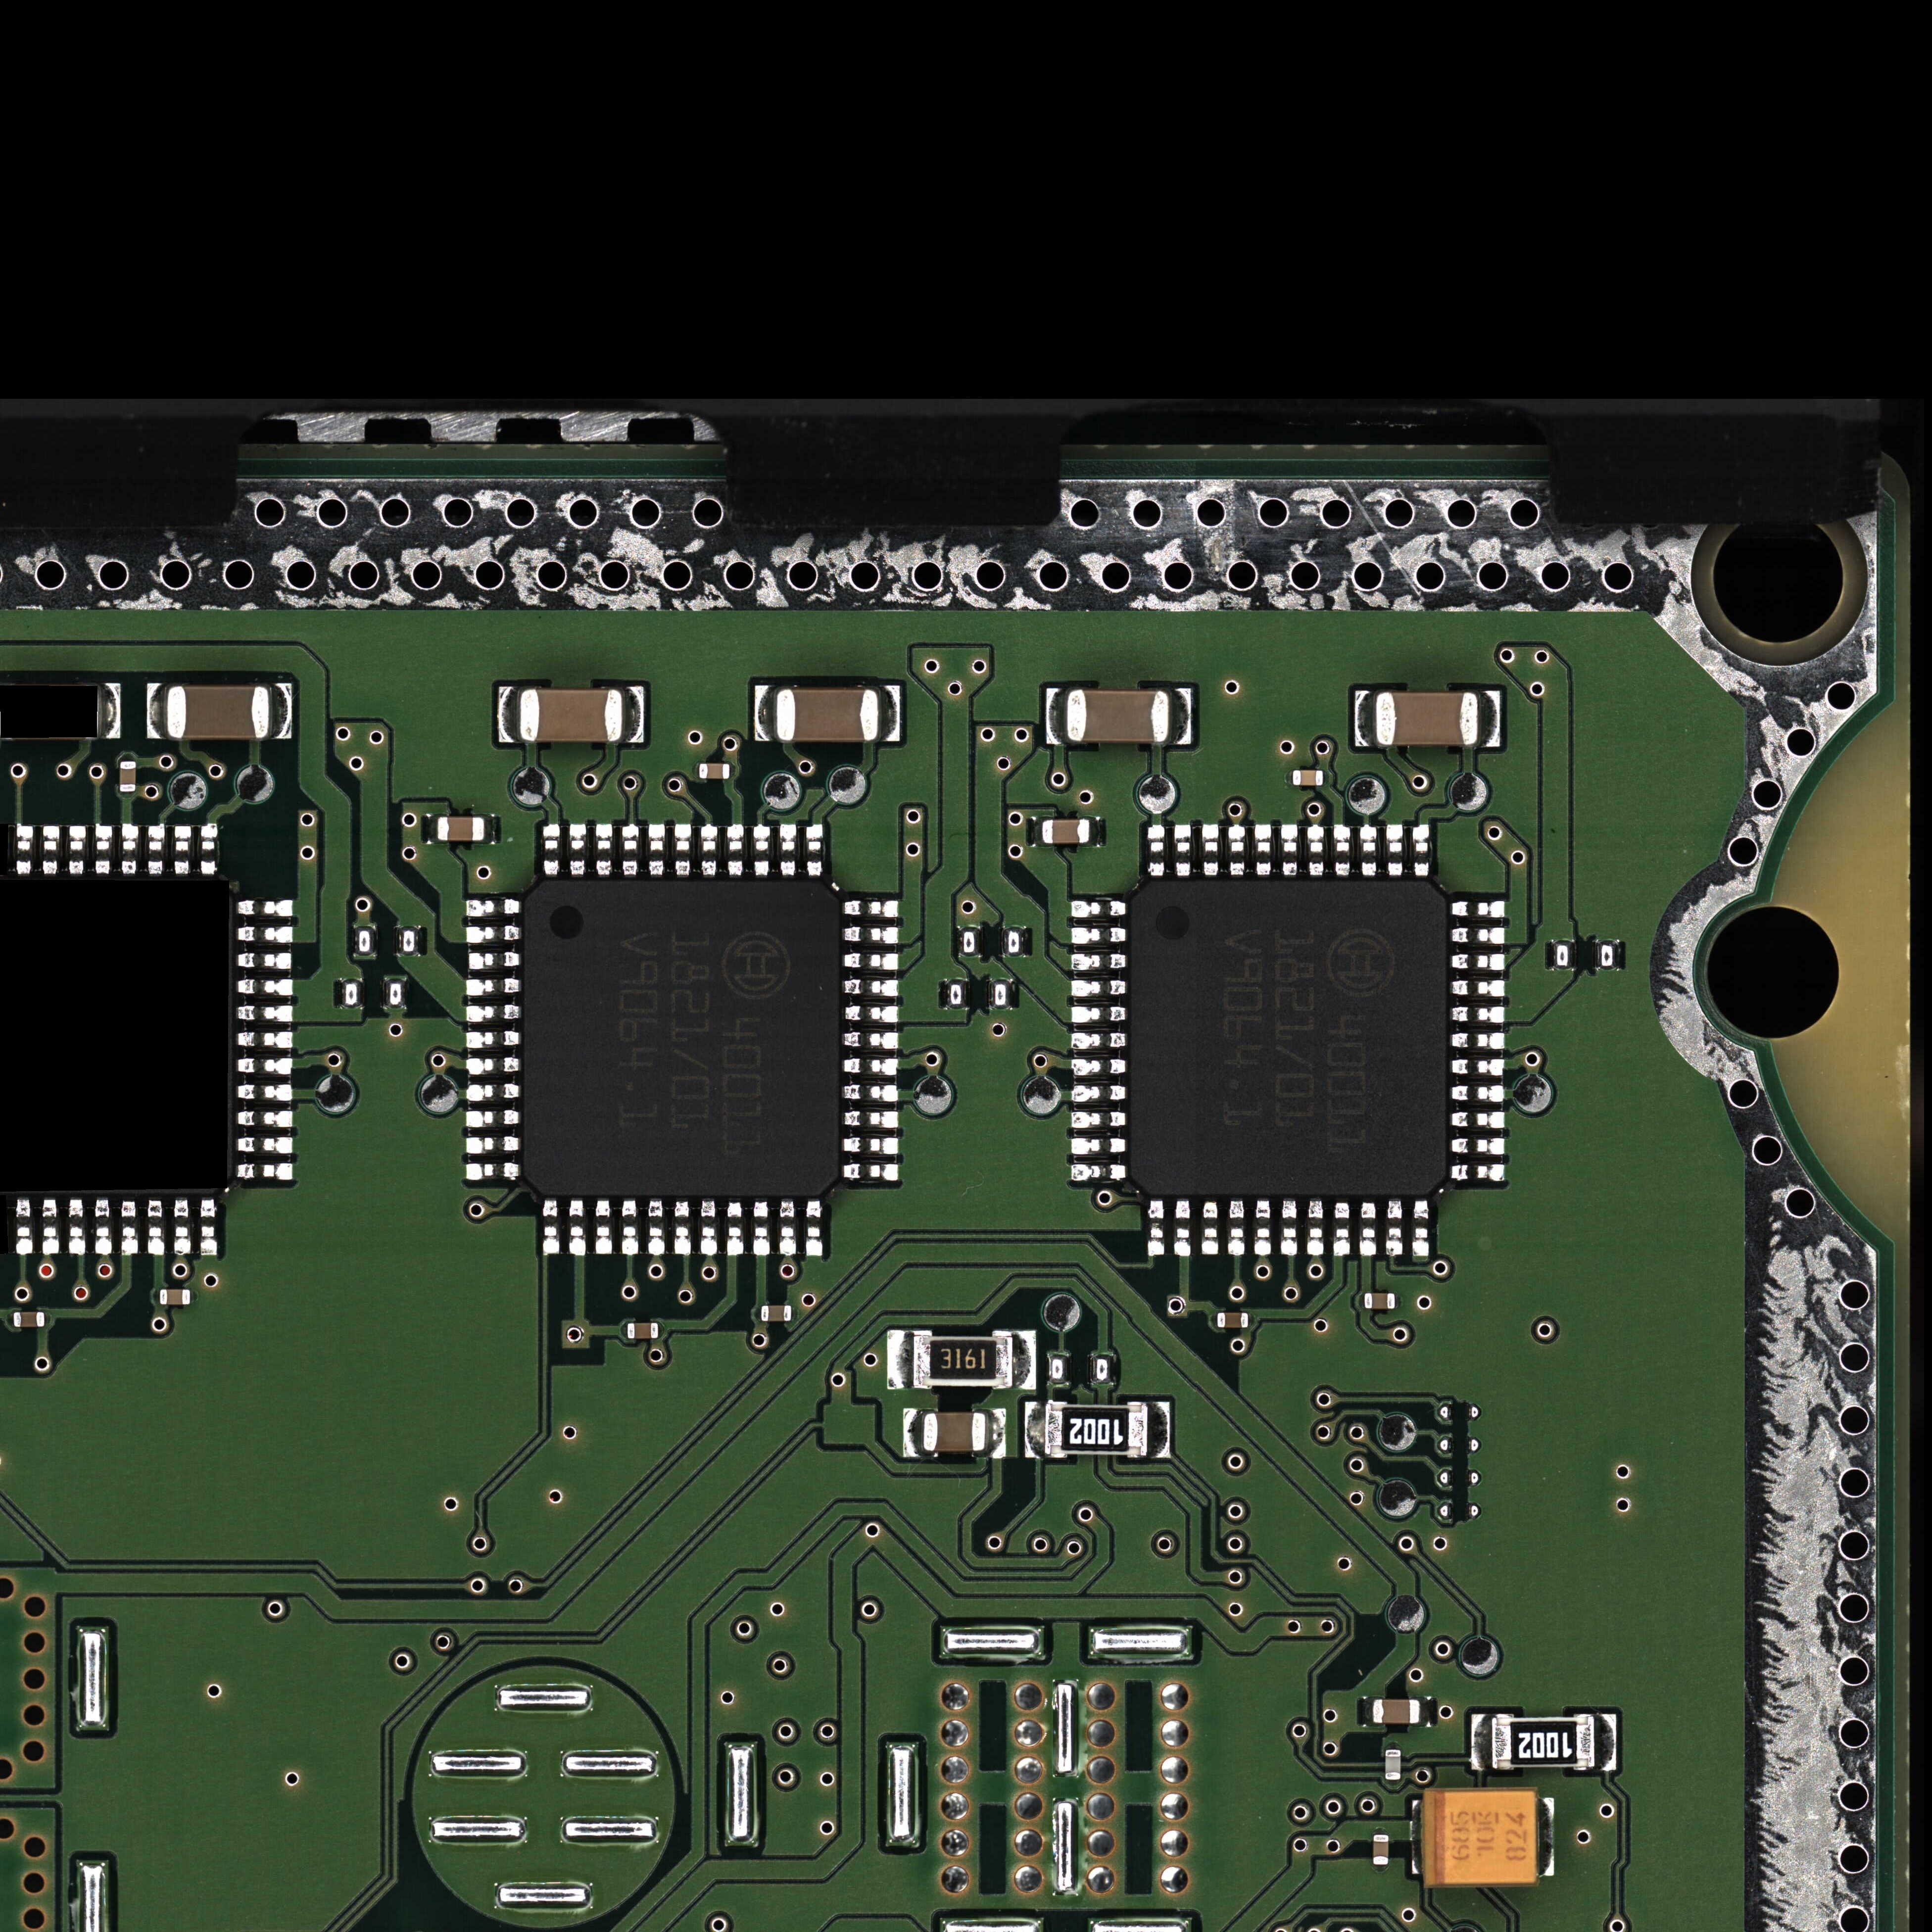Package: (1128, 880, 1449, 1198), (523, 881, 840, 1198), (1423, 1791, 1536, 1884), (520, 689, 623, 742), (1376, 692, 1478, 745), (167, 685, 269, 739), (1067, 690, 1169, 742), (1492, 1716, 1594, 1769), (1046, 1403, 1147, 1456), (777, 689, 879, 741), (914, 1335, 1012, 1387), (922, 1413, 986, 1451), (1042, 820, 1090, 844), (1373, 1699, 1420, 1724), (437, 817, 484, 841), (628, 1323, 659, 1339), (761, 1305, 791, 1321), (699, 763, 730, 779), (120, 761, 136, 792), (14, 1311, 45, 1327), (1293, 770, 1323, 786), (1364, 1293, 1395, 1309), (160, 1289, 190, 1304), (1373, 1835, 1389, 1865), (1217, 1312, 1248, 1328), (1385, 1749, 1401, 1780)
Solder: (888, 1330, 913, 1390), (1537, 1797, 1554, 1877), (1014, 1330, 1036, 1390), (198, 1197, 220, 1257), (171, 1197, 193, 1256), (119, 1197, 141, 1257), (145, 1198, 167, 1257), (39, 1197, 60, 1257), (12, 1197, 33, 1256), (64, 1196, 86, 1256), (91, 1196, 112, 1256), (1479, 690, 1500, 747), (1595, 1713, 1616, 1771), (879, 685, 900, 742), (624, 685, 644, 743), (1171, 687, 1191, 745), (236, 1004, 295, 1023), (236, 1030, 294, 1050), (271, 683, 291, 739), (237, 898, 295, 918), (236, 978, 294, 998), (236, 951, 294, 971), (236, 1057, 294, 1076), (235, 1083, 293, 1103), (237, 1135, 295, 1155), (237, 1108, 295, 1128), (1471, 1713, 1492, 1770), (1149, 1402, 1170, 1456), (755, 685, 775, 741), (498, 686, 519, 743), (236, 925, 295, 944), (1046, 687, 1066, 745), (236, 1161, 294, 1181), (464, 1162, 521, 1181), (199, 821, 219, 875), (173, 821, 193, 875), (67, 821, 88, 875), (94, 821, 114, 875), (147, 683, 166, 739), (842, 1162, 898, 1181), (1355, 690, 1374, 747), (843, 1057, 898, 1076), (466, 1057, 521, 1076), (120, 821, 141, 874), (15, 821, 35, 874), (465, 1136, 521, 1155), (843, 1136, 898, 1155), (146, 821, 166, 875), (41, 821, 61, 875), (466, 1083, 520, 1103), (843, 952, 899, 970), (1071, 1163, 1127, 1182), (465, 1110, 521, 1128), (844, 1083, 898, 1103), (1072, 1084, 1126, 1103), (843, 1110, 898, 1128), (1450, 1163, 1505, 1182), (466, 952, 521, 970), (1071, 900, 1126, 918), (1072, 926, 1126, 945), (1071, 952, 1126, 971), (466, 925, 520, 944), (466, 978, 520, 997), (843, 1031, 899, 1049), (465, 1031, 521, 1049), (844, 925, 898, 944), (844, 978, 898, 997), (844, 1005, 898, 1023), (1071, 1110, 1125, 1129), (1451, 952, 1505, 971), (466, 1005, 520, 1023), (103, 682, 121, 739), (1025, 1402, 1044, 1455), (1451, 926, 1504, 945), (1071, 1005, 1126, 1023), (1071, 1031, 1126, 1050), (1450, 1084, 1505, 1103), (844, 899, 898, 918), (1071, 1137, 1125, 1155), (1071, 979, 1125, 997), (1450, 1137, 1504, 1155), (1450, 1111, 1504, 1129), (466, 899, 520, 918), (1072, 1058, 1125, 1076), (1451, 900, 1504, 918), (1254, 1200, 1271, 1256), (1307, 1200, 1324, 1256), (621, 1200, 638, 1256), (595, 1200, 612, 1256), (1450, 1058, 1504, 1076), (1450, 1006, 1504, 1023), (753, 1201, 770, 1256), (805, 1200, 822, 1257), (542, 1199, 559, 1256), (1386, 1200, 1403, 1257), (1281, 1200, 1298, 1256), (1228, 1200, 1245, 1256), (648, 1200, 665, 1256), (779, 1200, 796, 1256), (700, 1200, 717, 1256), (569, 1200, 585, 1256), (1450, 979, 1504, 997), (1450, 1032, 1504, 1049), (674, 1201, 691, 1256), (542, 823, 560, 877), (1202, 1201, 1218, 1256), (1174, 1200, 1191, 1256), (1412, 1200, 1429, 1256), (1148, 1200, 1164, 1256), (726, 1202, 743, 1256), (1333, 1202, 1350, 1256), (1228, 824, 1246, 877), (622, 824, 639, 876), (1255, 824, 1272, 876), (596, 823, 613, 877), (806, 824, 823, 877), (1387, 824, 1403, 878), (1148, 824, 1165, 878), (1360, 1202, 1376, 1256), (675, 824, 691, 877), (1202, 824, 1219, 877), (569, 824, 586, 876), (779, 824, 796, 877), (701, 824, 718, 877), (1307, 824, 1324, 877), (1360, 825, 1377, 877), (1174, 825, 1191, 877), (1334, 825, 1351, 877), (987, 1408, 1005, 1456), (754, 824, 770, 877), (648, 824, 665, 877), (1413, 824, 1429, 877), (904, 1409, 922, 1456), (727, 824, 743, 877), (1281, 824, 1298, 876), (1411, 1799, 1421, 1874), (1421, 1696, 1433, 1727), (484, 814, 496, 844), (1031, 817, 1042, 847), (426, 814, 436, 844), (1362, 1696, 1372, 1727), (1089, 816, 1099, 847), (120, 753, 136, 761), (6, 1311, 13, 1328), (1323, 770, 1330, 785), (1357, 1293, 1364, 1309), (692, 763, 699, 778), (1385, 1742, 1401, 1749), (1385, 1780, 1401, 1787), (729, 763, 736, 778), (45, 1311, 51, 1326), (1286, 770, 1293, 785), (1395, 1294, 1401, 1308), (153, 1289, 160, 1304), (658, 1323, 665, 1339), (622, 1323, 628, 1339), (756, 1306, 762, 1322), (1211, 1312, 1217, 1328), (119, 792, 136, 797), (190, 1289, 196, 1304), (1249, 1313, 1255, 1328), (1373, 1865, 1388, 1871), (1373, 1829, 1388, 1835), (791, 1306, 796, 1321)
